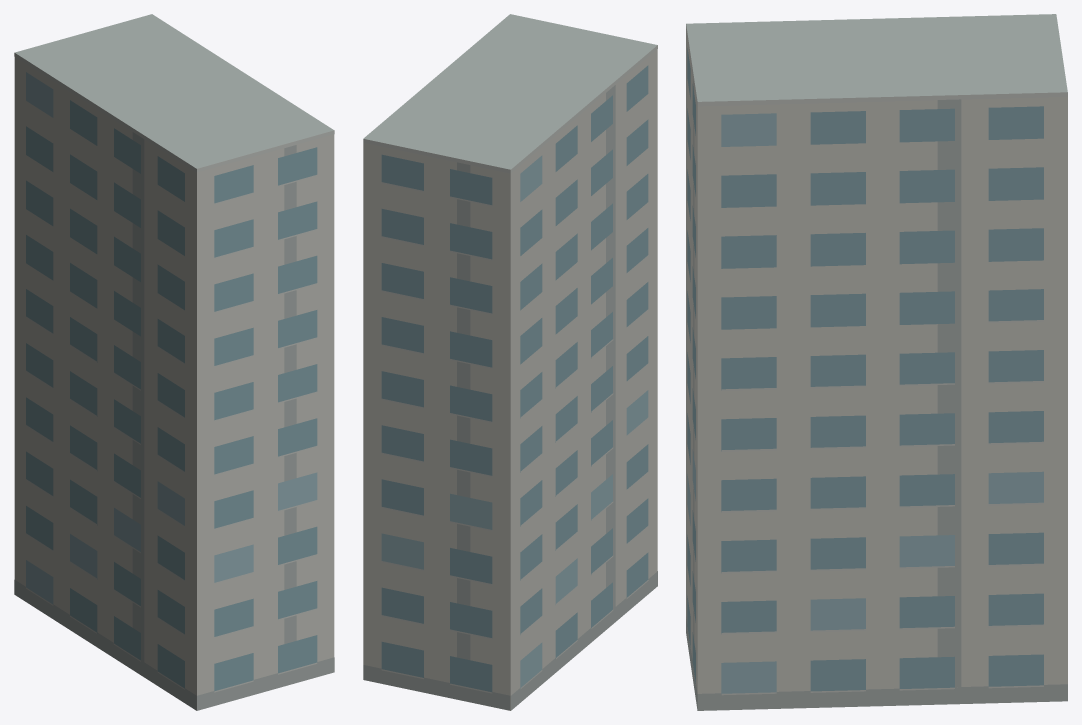
File: survey-upis-32743005.glb
3 views of the same model, side by side, from view 1: azimuth 30°, elevation 25°; view 2: azimuth 150°, elevation 25°; view 3: azimuth 270°, elevation 25° (orthographic). The views are drawn at different scales.
Parts seen in each view (by area): view 1: survey-upis-32743005.tmp; view 2: survey-upis-32743005.tmp; view 3: survey-upis-32743005.tmp.
Boxes of the visible parts, x1,y1,x2,y2 form: survey-upis-32743005.tmp: (14,14,334,710); survey-upis-32743005.tmp: (363,14,657,710); survey-upis-32743005.tmp: (686,14,1067,710).
Bounding box in the file's own units: 10.5 × 33.9 × 19.27.
